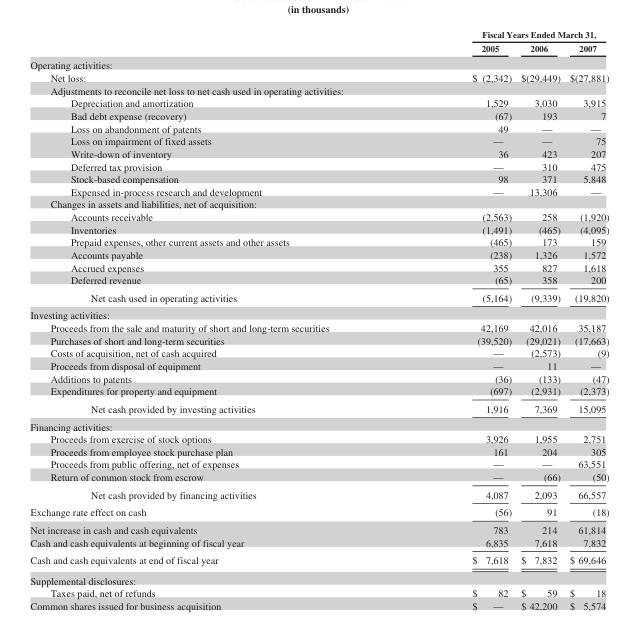table: (29, 28, 608, 611)
table column: (29, 28, 400, 611), (400, 28, 515, 611), (515, 28, 564, 611), (564, 28, 608, 611)
table column header: (29, 28, 608, 56)
table projected row header: (29, 570, 608, 586), (29, 56, 608, 71), (29, 306, 608, 321), (29, 417, 608, 432), (29, 83, 608, 96), (29, 197, 608, 210)
table row: (29, 551, 608, 570), (29, 288, 608, 306), (29, 399, 608, 417), (29, 485, 608, 503), (29, 503, 608, 520), (29, 40, 608, 56), (29, 520, 608, 536), (29, 570, 608, 586), (29, 56, 608, 71), (29, 273, 608, 288), (29, 306, 608, 321), (29, 384, 608, 399), (29, 417, 608, 432), (29, 470, 608, 485), (29, 536, 608, 551), (29, 83, 608, 96), (29, 96, 608, 109), (29, 121, 608, 134), (29, 134, 608, 147), (29, 159, 608, 172), (29, 172, 608, 185), (29, 197, 608, 210), (29, 222, 608, 235), (29, 235, 608, 248), (29, 260, 608, 273), (29, 333, 608, 346), (29, 346, 608, 359), (29, 371, 608, 384), (29, 432, 608, 445), (29, 457, 608, 470), (29, 586, 608, 599), (29, 28, 608, 40), (29, 71, 608, 83), (29, 109, 608, 121), (29, 147, 608, 159), (29, 185, 608, 197), (29, 210, 608, 222), (29, 248, 608, 260), (29, 321, 608, 333), (29, 359, 608, 371), (29, 445, 608, 457), (29, 599, 608, 611)
table spanning cell: (400, 28, 608, 40)
